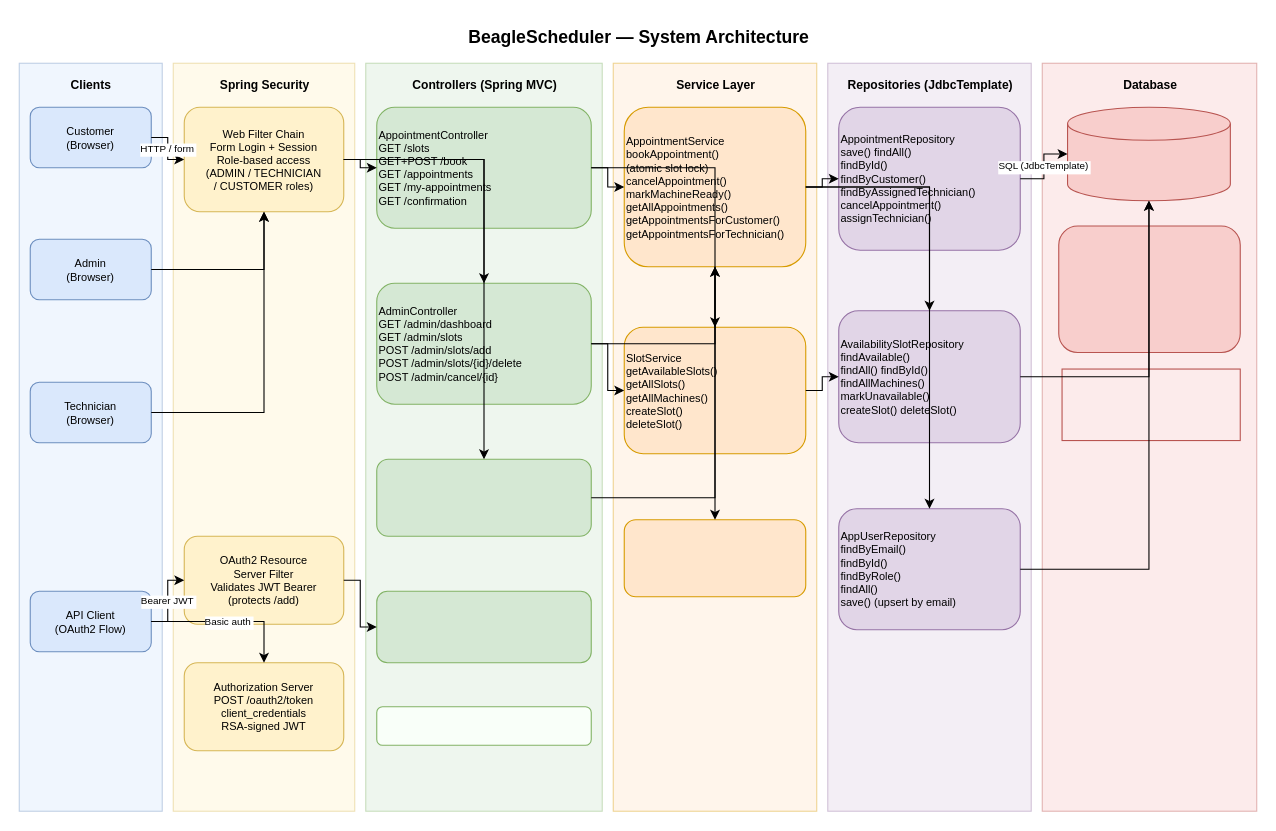
Some shapes in this 1276 by 831 pixel diagram are drawn without their labels. Each missing label, with the box of its shape:
All responses: Thymeleaf HTML templates (server-side): (376, 706, 591, 745)
BookingMetricsService recordSuccess(latencyMs) recordFailure(): (623, 519, 806, 597)
DDL: schema.sql Seed: data.sql Console: /h2-console Dialect: create-drop: (1061, 368, 1240, 441)
H2 In-Memory DB jdbc:h2:mem:testdb: (1066, 106, 1230, 201)
MathController GET /add?a=&b= (Bearer JWT required): (376, 590, 591, 663)
Tables: users machines services availability_slots appointments: (1058, 225, 1240, 353)
TechnicianController GET /technician/dashboard POST /technician/ready/{id}: (376, 458, 591, 536)
